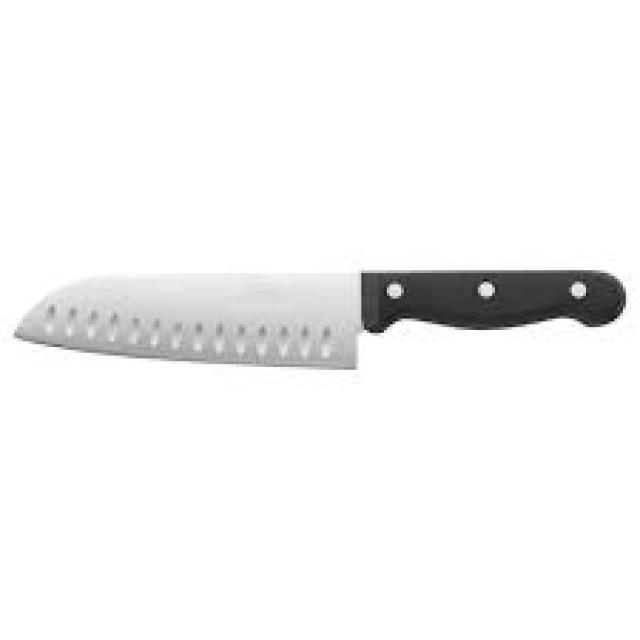Knife: (14, 270, 623, 367)
